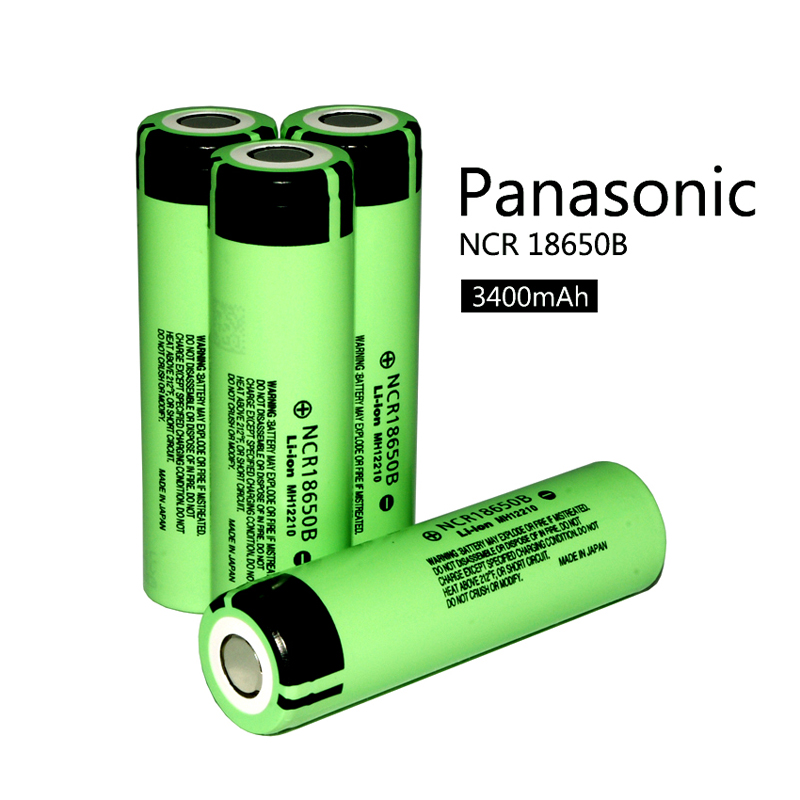Battery: (196, 458, 672, 741), (204, 137, 357, 601), (285, 104, 424, 552), (133, 105, 211, 616)
